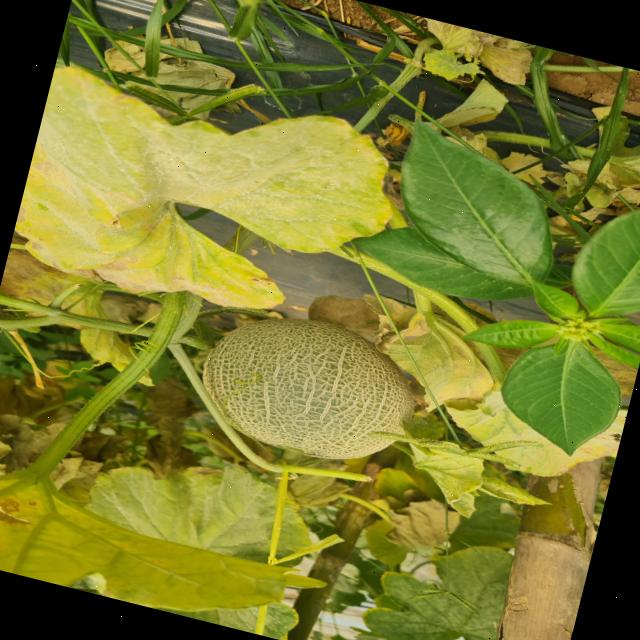melon: (201, 317, 414, 458)
